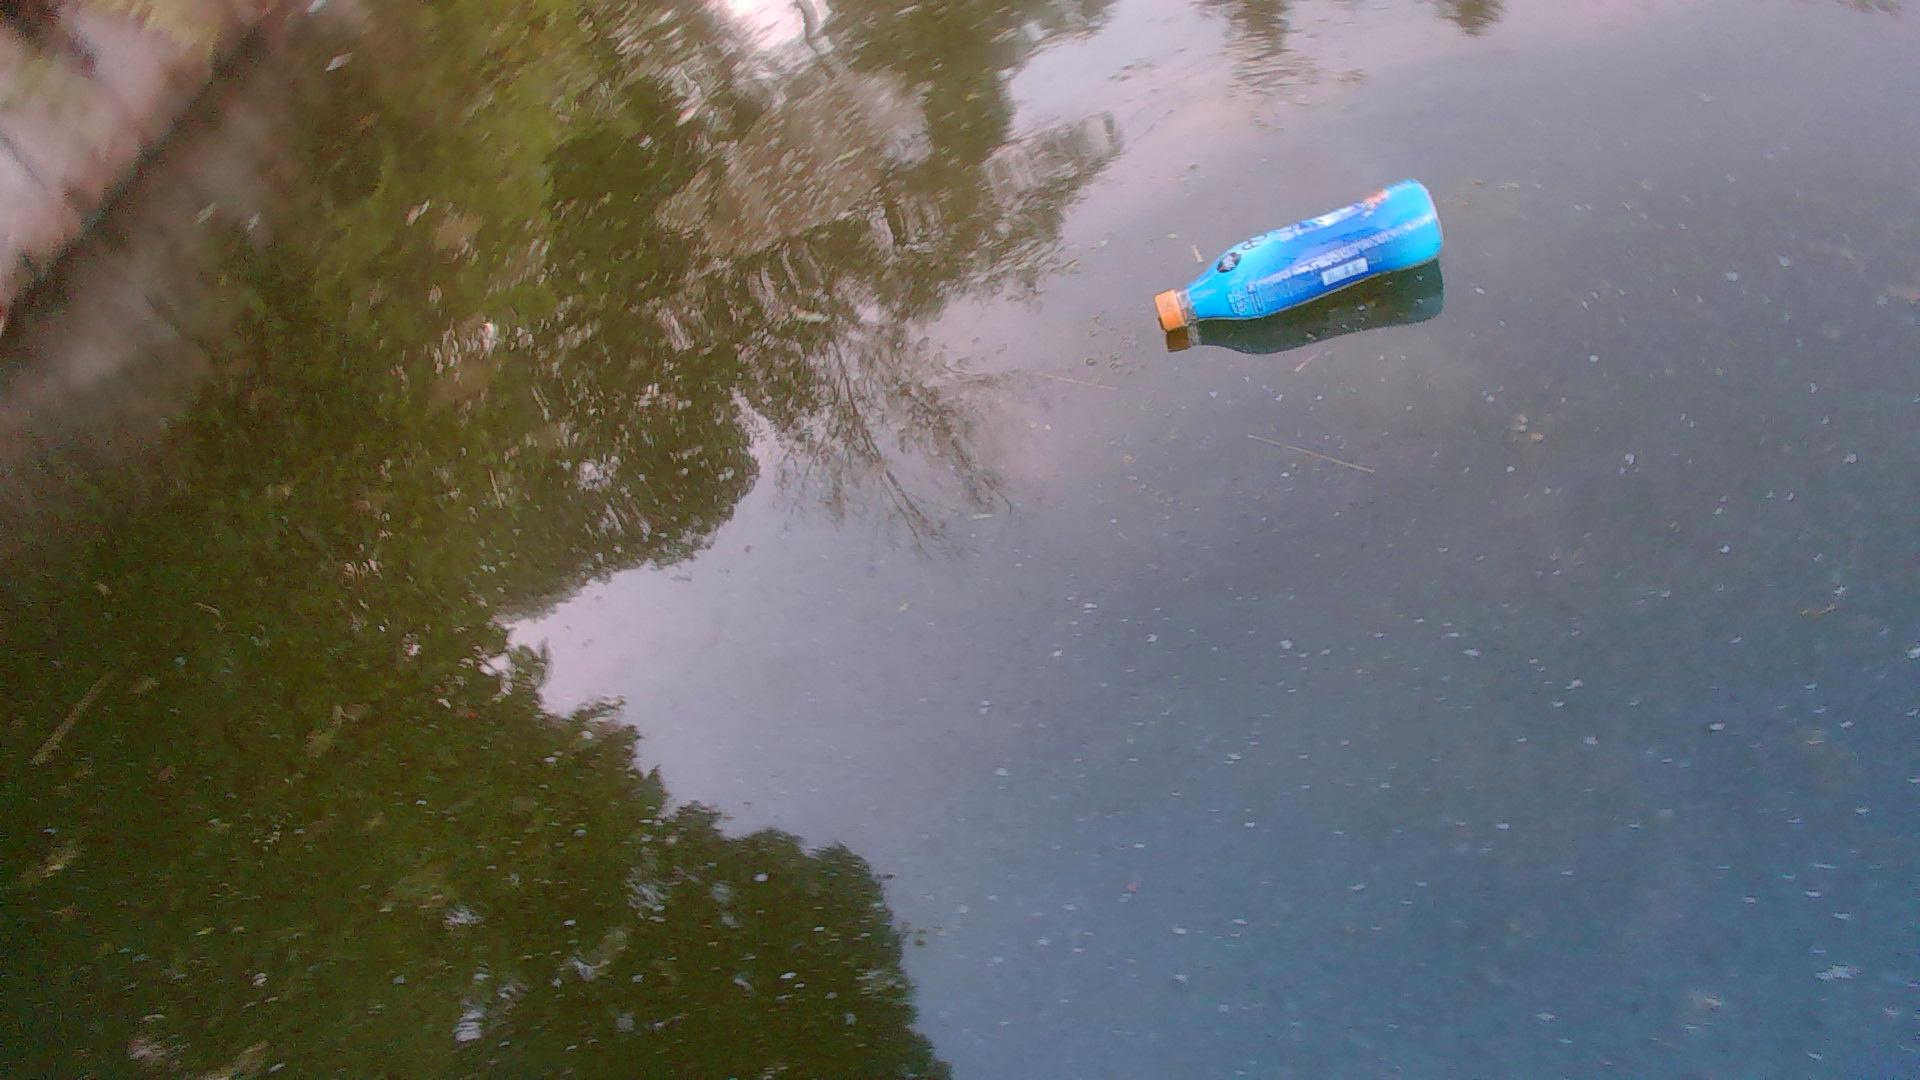Plastic: (1150, 171, 1451, 332)
